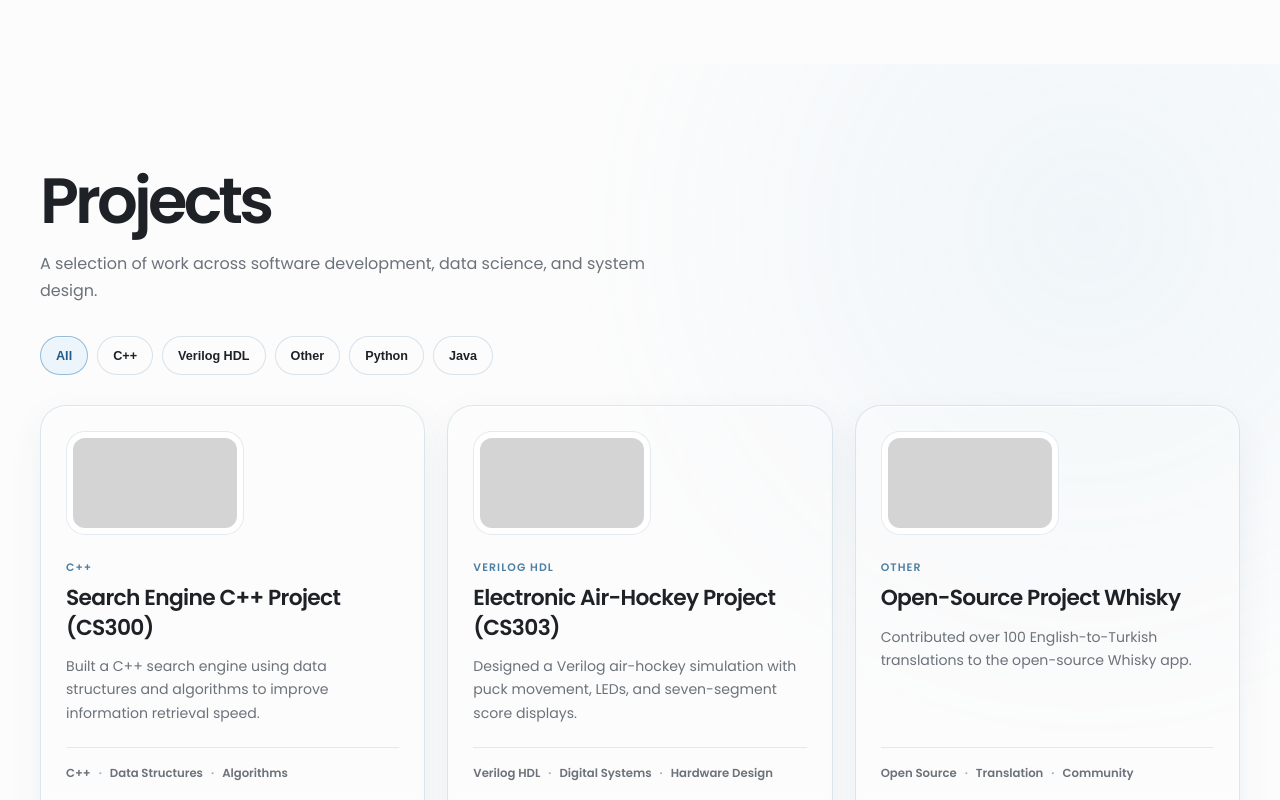
Test case: filters projects by technology category
This screenshot has width=1280, height=800.
What coordinates should you click on to do the following:
click the button "Python"
I would click on:
 (387, 356)
Its box is x1=349 y1=336 x2=424 y2=375.
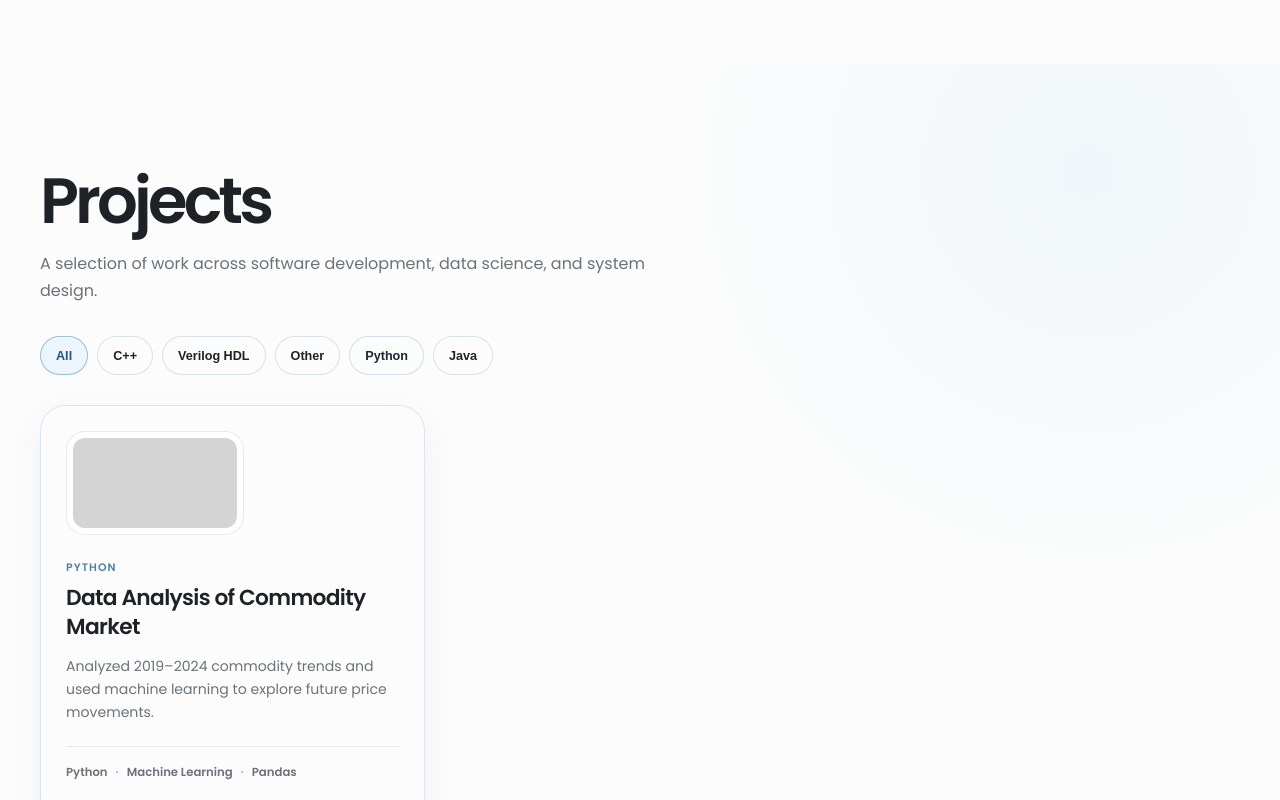
Check: the heading "Data Analysis of Commodity Market" is shown, box x1=66 y1=583 x2=399 y2=642
Check: the heading "Search Engine C++ Project" is gone
